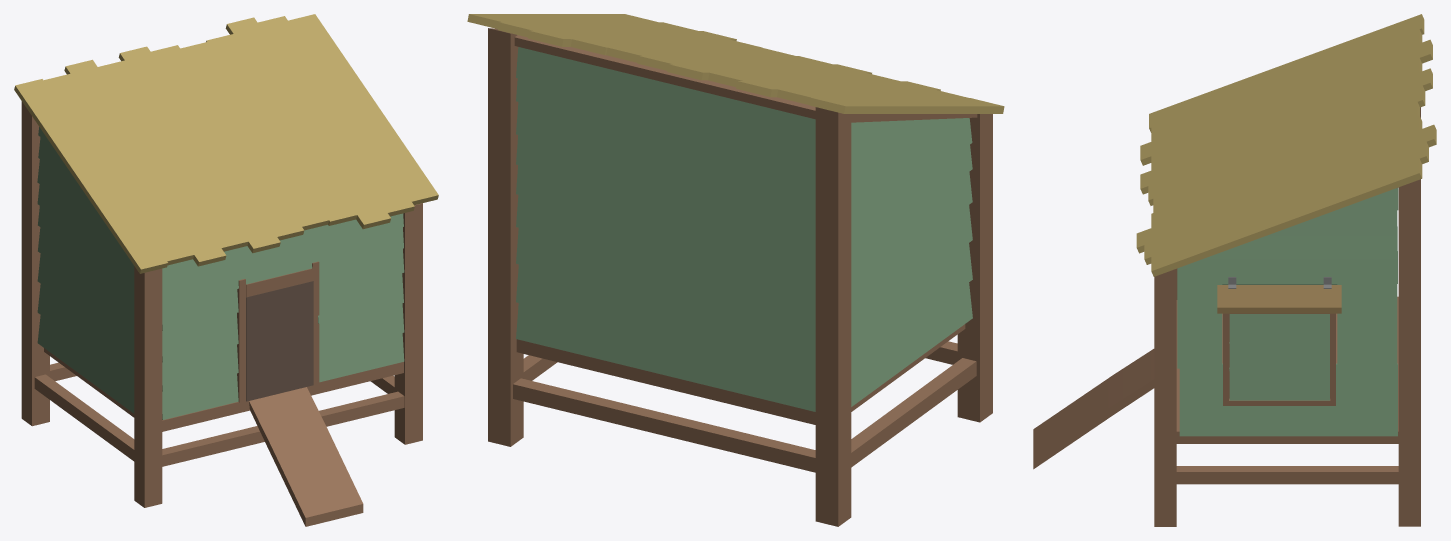
Rendered from Chicken_Coop_01.fbx.
3 views of the same model, side by side, from view 1: azimuth 30°, elevation 25°; view 2: azimuth 150°, elevation 25°; view 3: azimuth 270°, elevation 25° (orthographic). The views are drawn at different scales.
Parts seen in each view (by area): view 1: Chicken_coop1_Combined; view 2: Chicken_coop1_Combined; view 3: Chicken_coop1_Combined.
Boxes of the visible parts, x1=… form: Chicken_coop1_Combined: x1=14, y1=14, x2=438, y2=526; Chicken_coop1_Combined: x1=467, y1=14, x2=1004, y2=526; Chicken_coop1_Combined: x1=1033, y1=14, x2=1436, y2=526.
Size of the model in its own units: 604 by 618 by 610.
